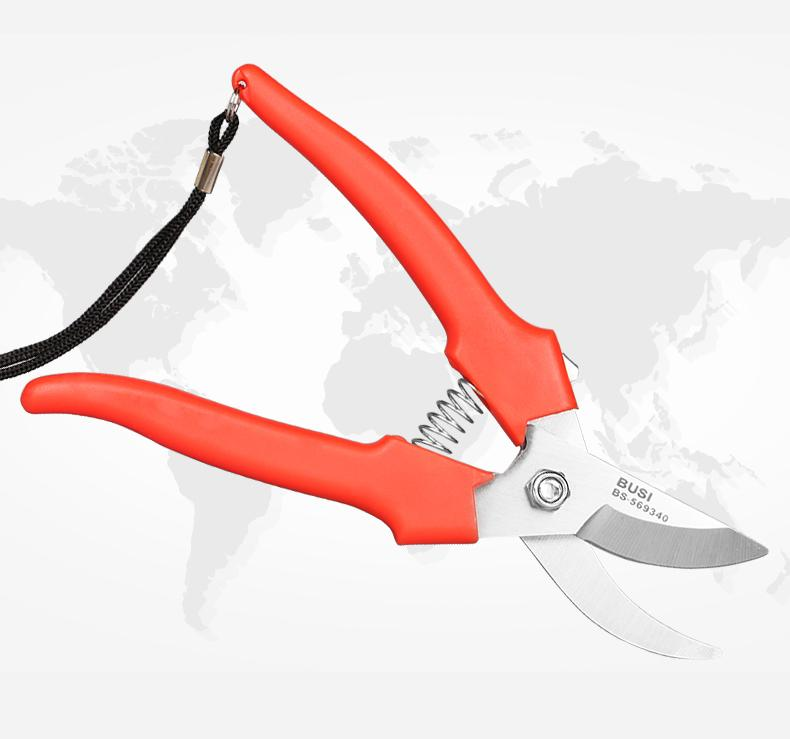scissor: (152, 71, 753, 652)
